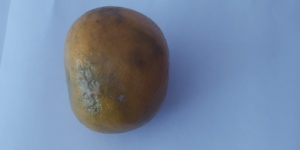BAD: (63, 5, 172, 134)
